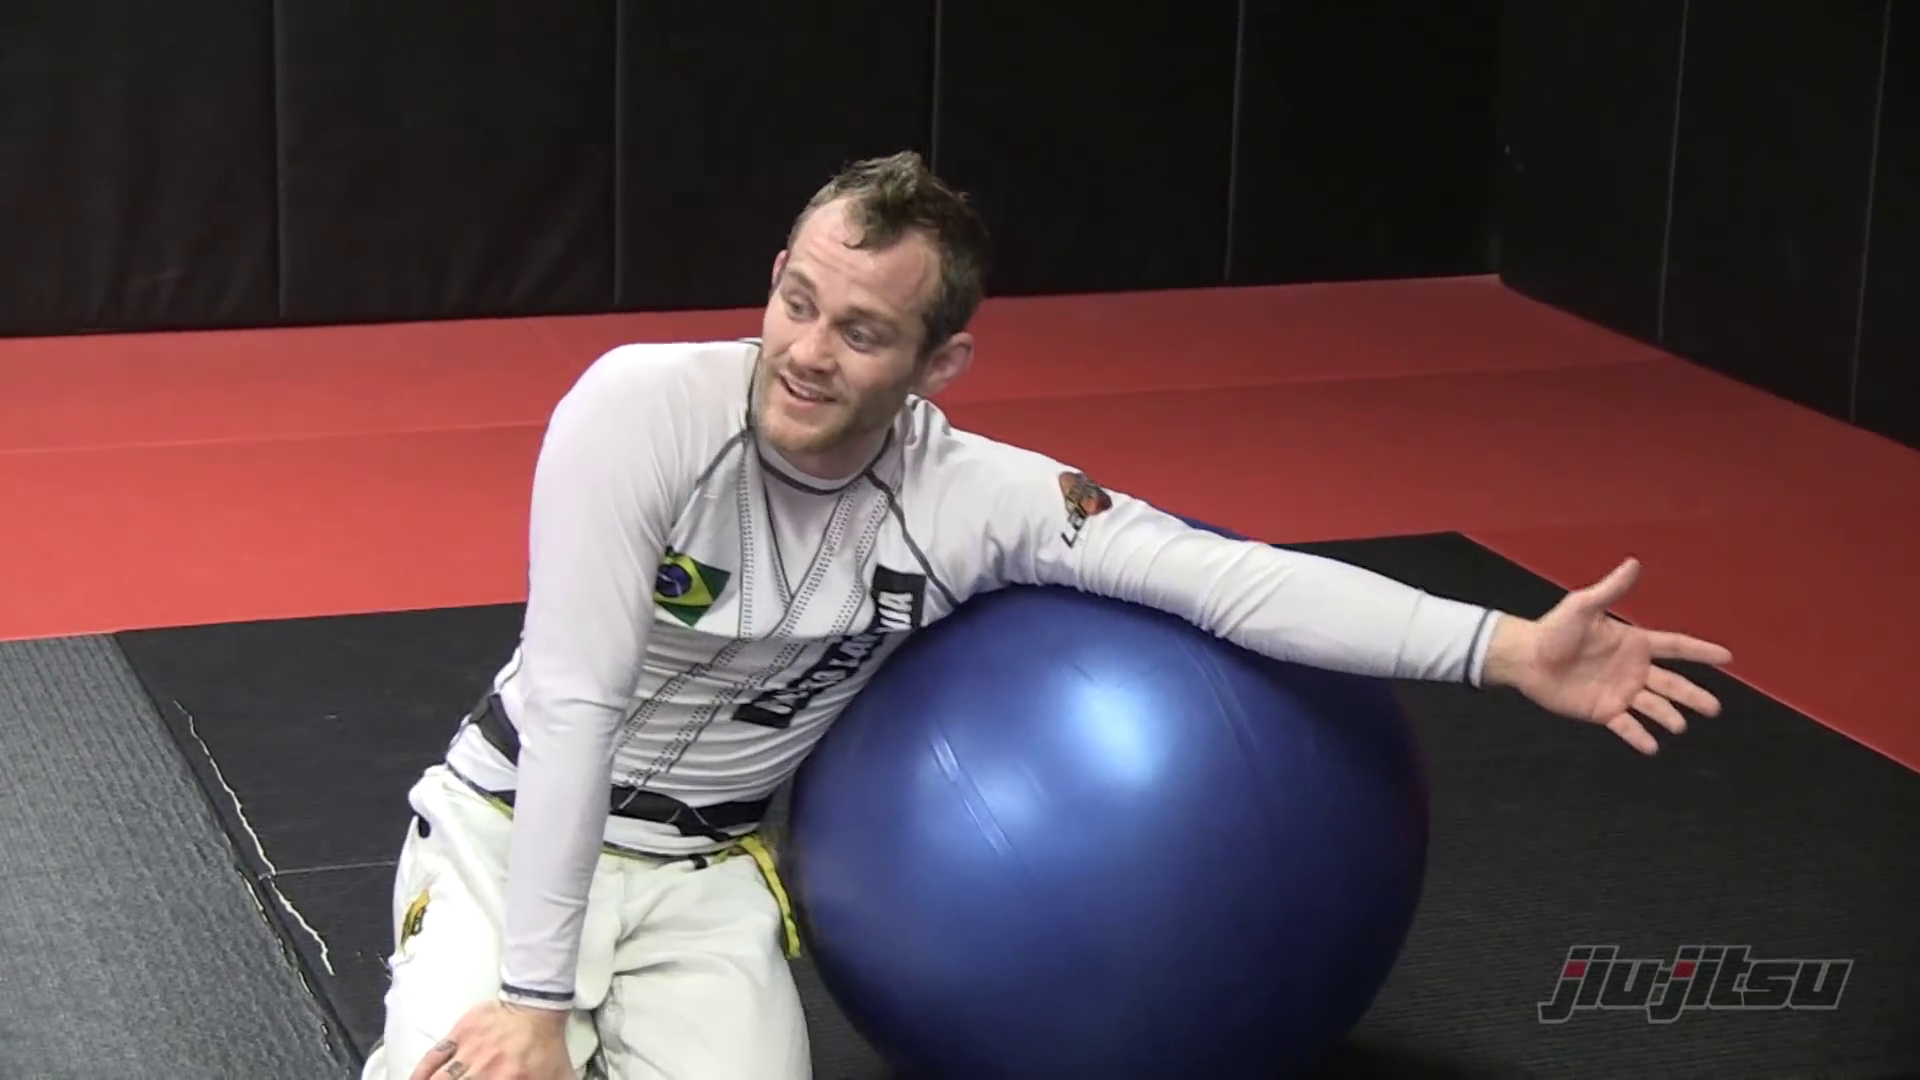yogaball: (770, 560, 1470, 1080)
